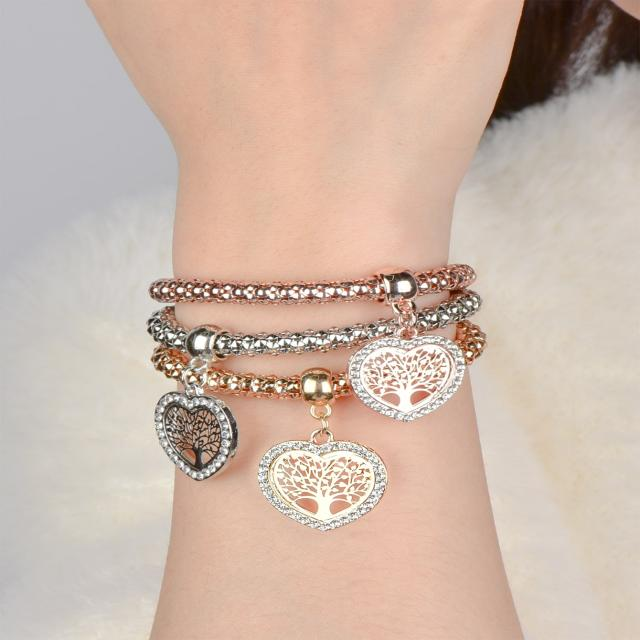bracelet: (69, 213, 640, 551)
